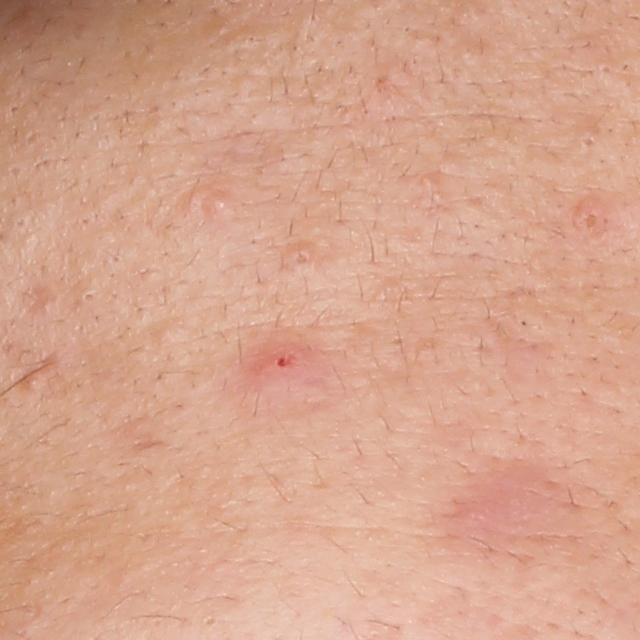atrophic_scar: (22, 281, 56, 320)
comedo: (284, 242, 321, 274), (576, 209, 607, 243), (203, 191, 235, 217), (76, 285, 104, 310), (573, 131, 602, 154), (596, 59, 619, 81)
papule: (256, 339, 309, 391)
